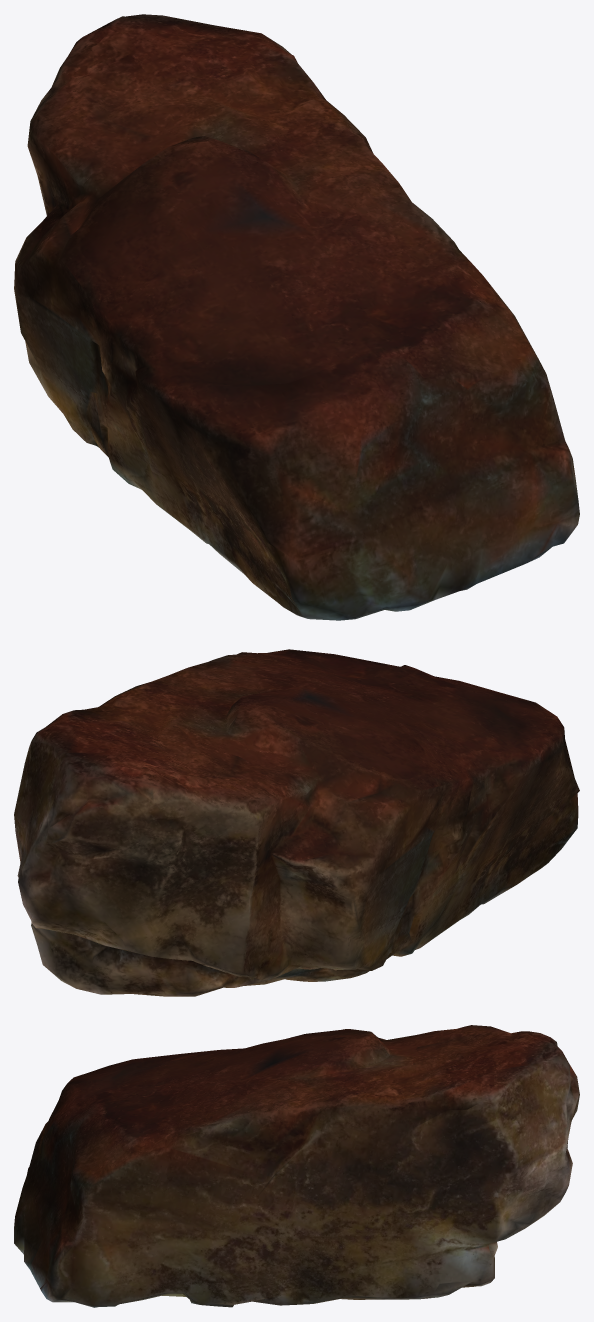
File: rock_07-near.glb
3 views of the same model, one above another, from view 1: azimuth 30°, elevation 25°; view 2: azimuth 150°, elevation 25°; view 3: azimuth 270°, elevation 25° (orthographic). The views are drawn at different scales.
Parts seen in each view (by area): view 1: rock_07; view 2: rock_07; view 3: rock_07.
Part boxes in pixels (bbox=[...]): rock_07: bbox=[14, 14, 579, 620]; rock_07: bbox=[14, 649, 579, 996]; rock_07: bbox=[14, 1025, 579, 1307].
Bounding box in the file's own units: 0.1681 × 0.1434 × 0.3198.
Materials: 1 (1 with a texture image).
